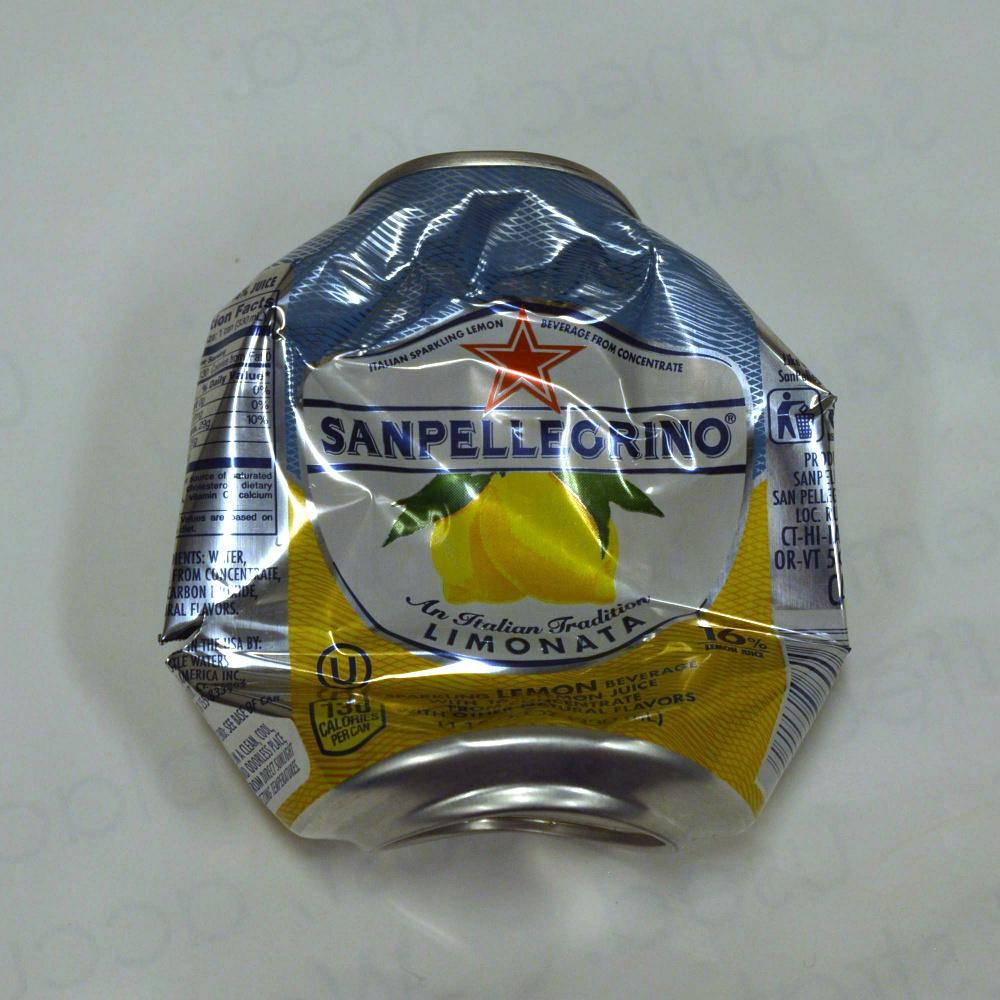Metal: (168, 90, 851, 907)
